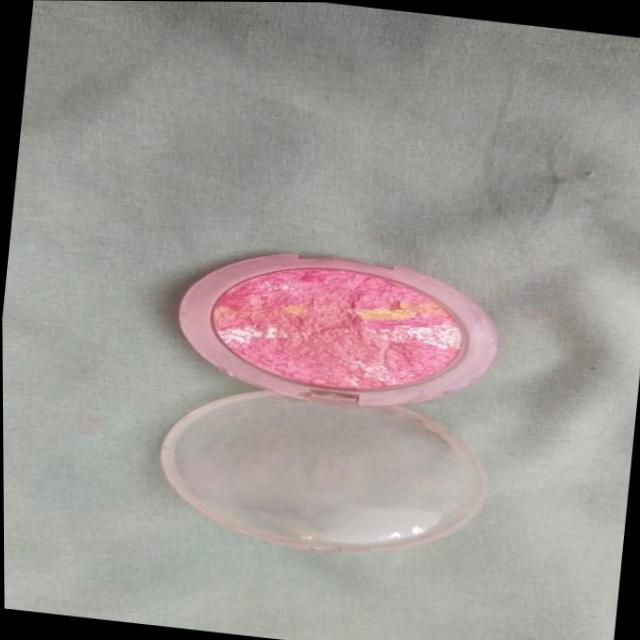blush: (143, 230, 497, 430)
